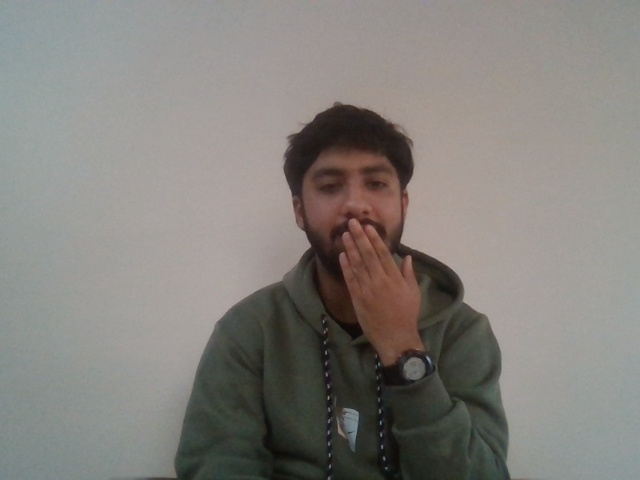Thanks: (293, 211, 463, 340)
